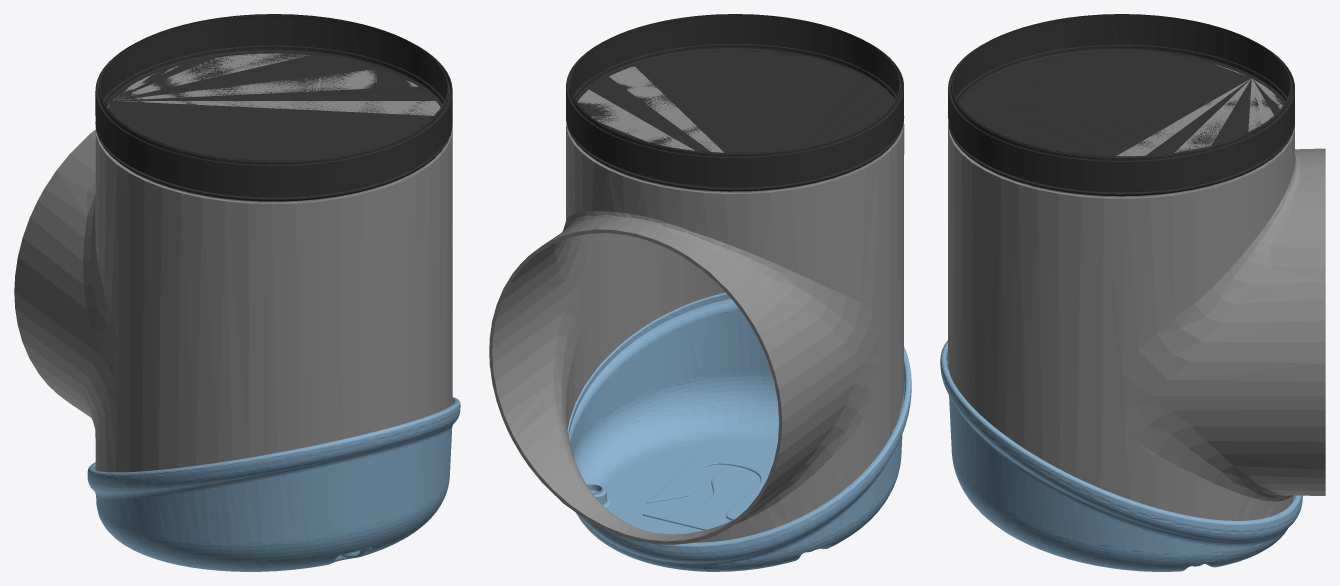
File: wrist2.glb
The picture shows the model from 3 angles, left to right: view 1: azimuth 30°, elevation 25°; view 2: azimuth 150°, elevation 25°; view 3: azimuth 270°, elevation 25°; orthographic projection. The views are drawn at different scales.
Parts seen in each view (by area): view 1: eSeries_UR10e_040, eSeries_UR10e_035, eSeries_UR10e_030; view 2: eSeries_UR10e_040, eSeries_UR10e_030, eSeries_UR10e_035; view 3: eSeries_UR10e_040, eSeries_UR10e_035, eSeries_UR10e_030.
Part boxes in pixels (left/top/right/bottom): eSeries_UR10e_040: left=14, top=53, right=452, bottom=472; eSeries_UR10e_035: left=95, top=14, right=452, bottom=201; eSeries_UR10e_030: left=87, top=397, right=460, bottom=571; eSeries_UR10e_040: left=489, top=66, right=904, bottom=544; eSeries_UR10e_030: left=567, top=292, right=911, bottom=571; eSeries_UR10e_035: left=566, top=14, right=904, bottom=191; eSeries_UR10e_040: left=948, top=64, right=1325, bottom=520; eSeries_UR10e_035: left=948, top=14, right=1294, bottom=196; eSeries_UR10e_030: left=940, top=340, right=1302, bottom=571.
Bounding box in the file's own units: 0.094 × 0.1249 × 0.0999.
